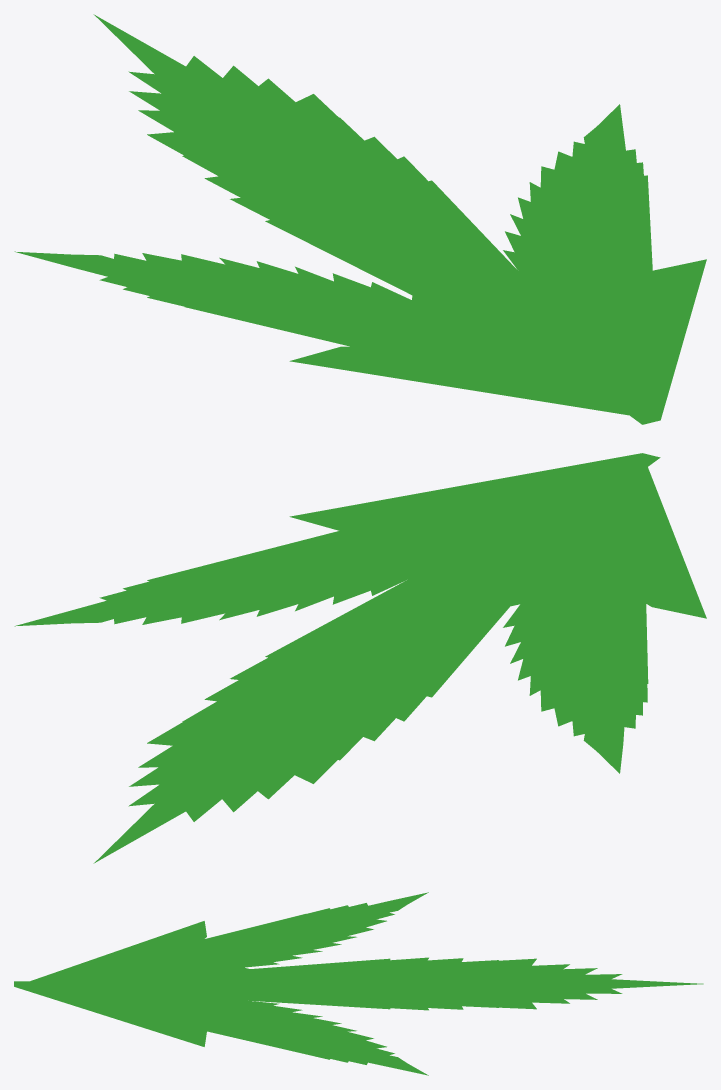
The model's file is Ganja .fbx.
The picture shows the model from 3 angles, top to bottom: view 1: azimuth 30°, elevation 25°; view 2: azimuth 150°, elevation 25°; view 3: azimuth 270°, elevation 25°; orthographic projection. The views are drawn at different scales.
Visible parts, largest first — view 1: Plane; view 2: Plane; view 3: Plane.
Boxes of the visible parts, x1=… form: Plane: x1=14, y1=14, x2=706, y2=424; Plane: x1=14, y1=453, x2=706, y2=863; Plane: x1=14, y1=892, x2=703, y2=1075.
Size of the model in its own units: 257 by 6.67e-05 by 410.
